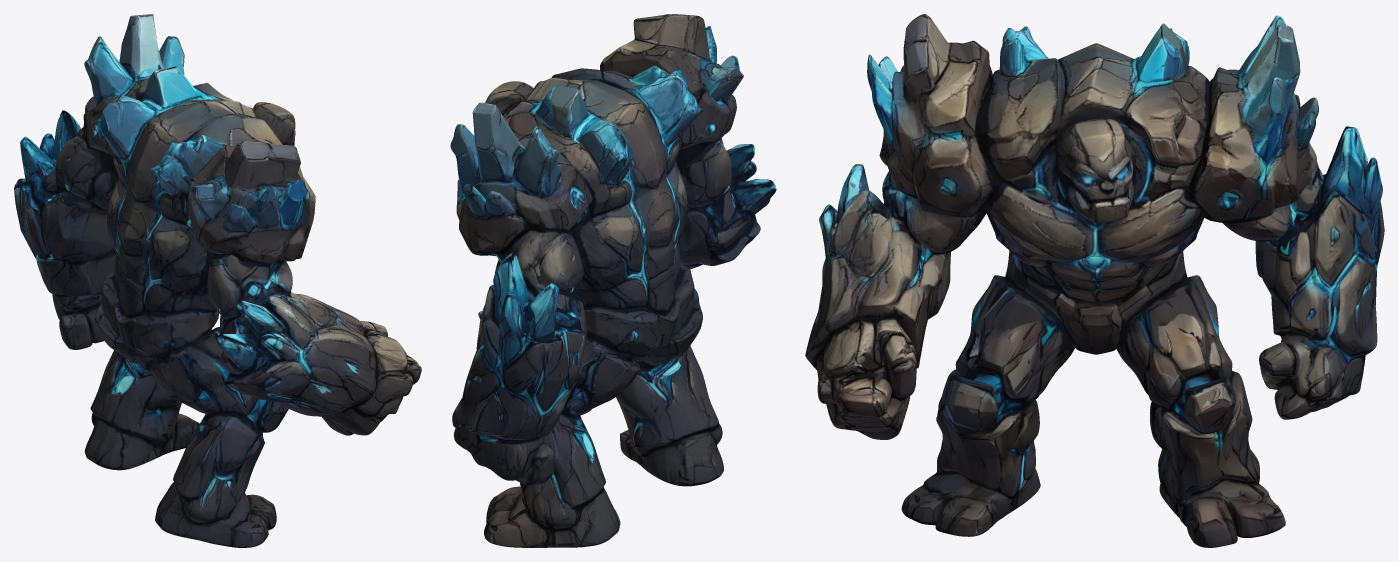
File: floor6-golem.glb
3 views of the same model, side by side, from view 1: azimuth 30°, elevation 25°; view 2: azimuth 150°, elevation 25°; view 3: azimuth 270°, elevation 25° (orthographic). The views are drawn at different scales.
Visible parts, largest first — view 1: tripo_node_be464461-b02f-4716-8b11-93727875d509; view 2: tripo_node_be464461-b02f-4716-8b11-93727875d509; view 3: tripo_node_be464461-b02f-4716-8b11-93727875d509.
Part boxes in pixels (<box>): tripo_node_be464461-b02f-4716-8b11-93727875d509: <box>14,14,421,547</box>; tripo_node_be464461-b02f-4716-8b11-93727875d509: <box>450,14,776,547</box>; tripo_node_be464461-b02f-4716-8b11-93727875d509: <box>805,14,1384,547</box>.
Bounding box in the file's own units: 0.5116 × 0.9771 × 1.
1 material, 1 textured.
